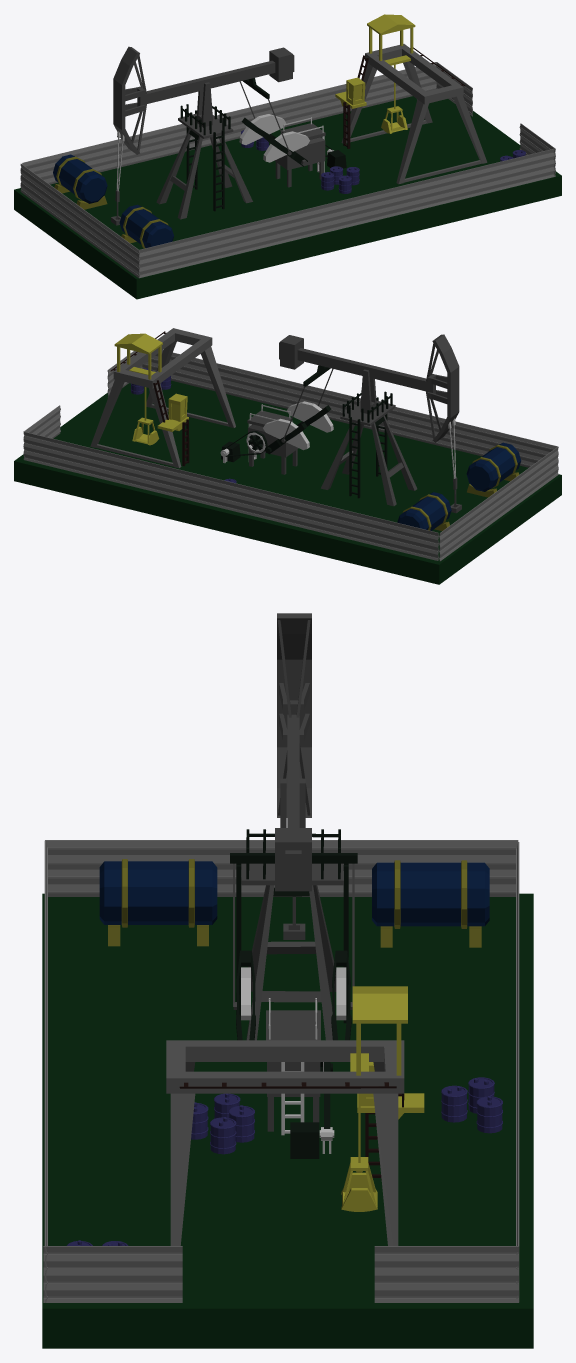
The model's file is OilDerrick.FBX.
3 renders of one model, top to bottom at view 1: azimuth 30°, elevation 25°; view 2: azimuth 150°, elevation 25°; view 3: azimuth 270°, elevation 25°, orthographic. The views are drawn at different scales.
Visible parts, largest first — view 1: oil_derrick; view 2: oil_derrick; view 3: oil_derrick.
Part boxes in pixels (x1=…): oil_derrick: x1=14, y1=14, x2=561, y2=299; oil_derrick: x1=14, y1=328, x2=561, y2=584; oil_derrick: x1=42, y1=613, x2=533, y2=1348.
Bounding box in the file's own units: 20000 × 8498 × 10000.
